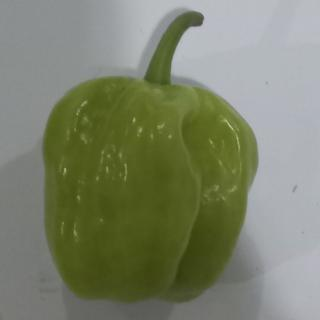Grade-B: (38, 67, 262, 304)
